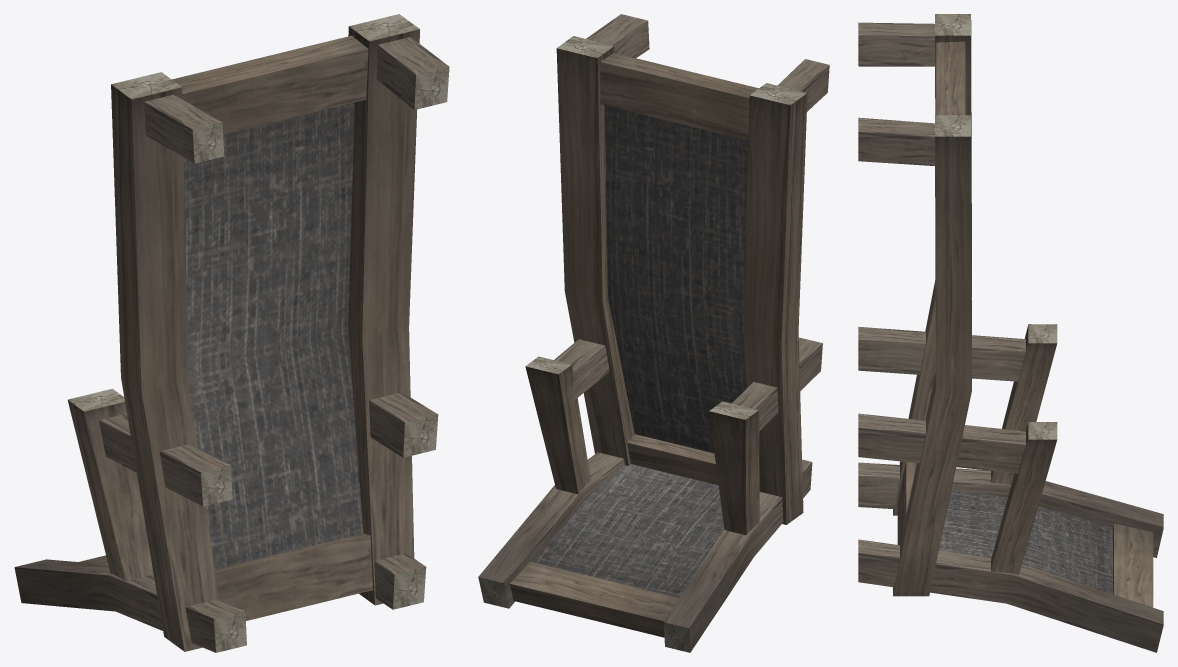
File: LongChair_Type_02_C.fbx
The picture shows the model from 3 angles, left to right: view 1: azimuth 30°, elevation 25°; view 2: azimuth 150°, elevation 25°; view 3: azimuth 270°, elevation 25°; orthographic projection. The views are drawn at different scales.
Visible parts, largest first — view 1: LongChair_Type_02_C; view 2: LongChair_Type_02_C; view 3: LongChair_Type_02_C.
Boxes of the visible parts, left/top/right/bottom form: LongChair_Type_02_C: left=14, top=14, right=449, bottom=652; LongChair_Type_02_C: left=478, top=14, right=829, bottom=652; LongChair_Type_02_C: left=858, top=14, right=1163, bottom=652.
Bounding box in the file's own units: 1.12 × 2.24 × 1.18.
